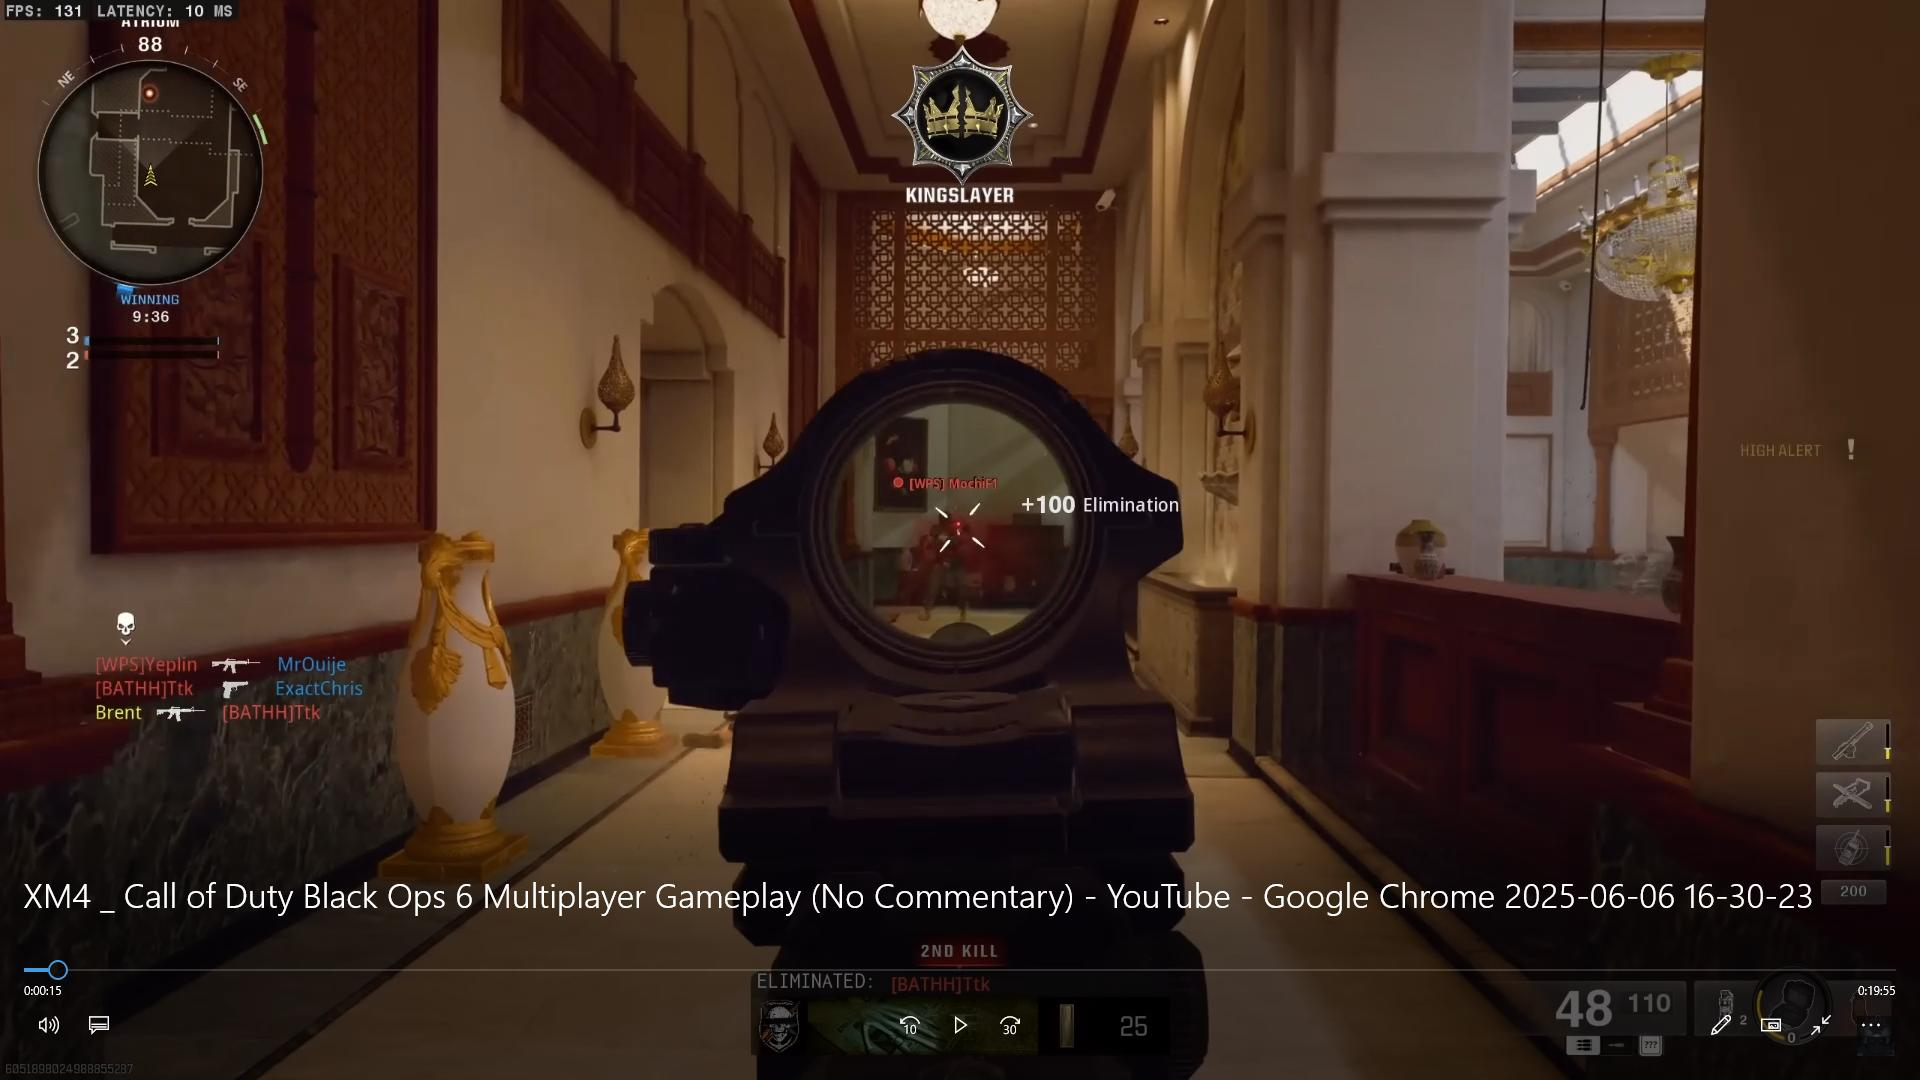Enemy: (897, 468, 1005, 613)
